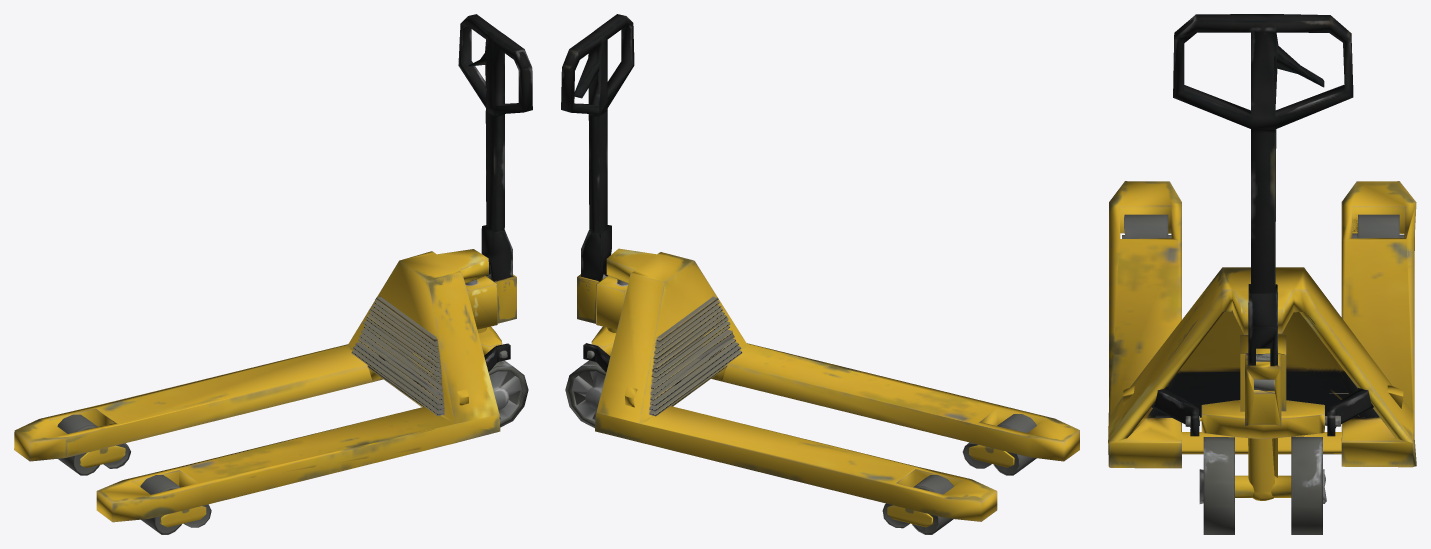
File: paleteira.glb
The picture shows the model from 3 angles, left to right: view 1: azimuth 30°, elevation 25°; view 2: azimuth 150°, elevation 25°; view 3: azimuth 270°, elevation 25°; orthographic projection. The views are drawn at different scales.
Visible parts, largest first — view 1: geometry_0; view 2: geometry_0; view 3: geometry_0.
Part boxes in pixels (x1,y1,x2,y2): geometry_0: (14,14,532,534); geometry_0: (561,14,1079,534); geometry_0: (1108,14,1416,534).
Size of the model in its own units: 0.9609 by 0.7725 by 0.4106.
1 material, 1 textured.
